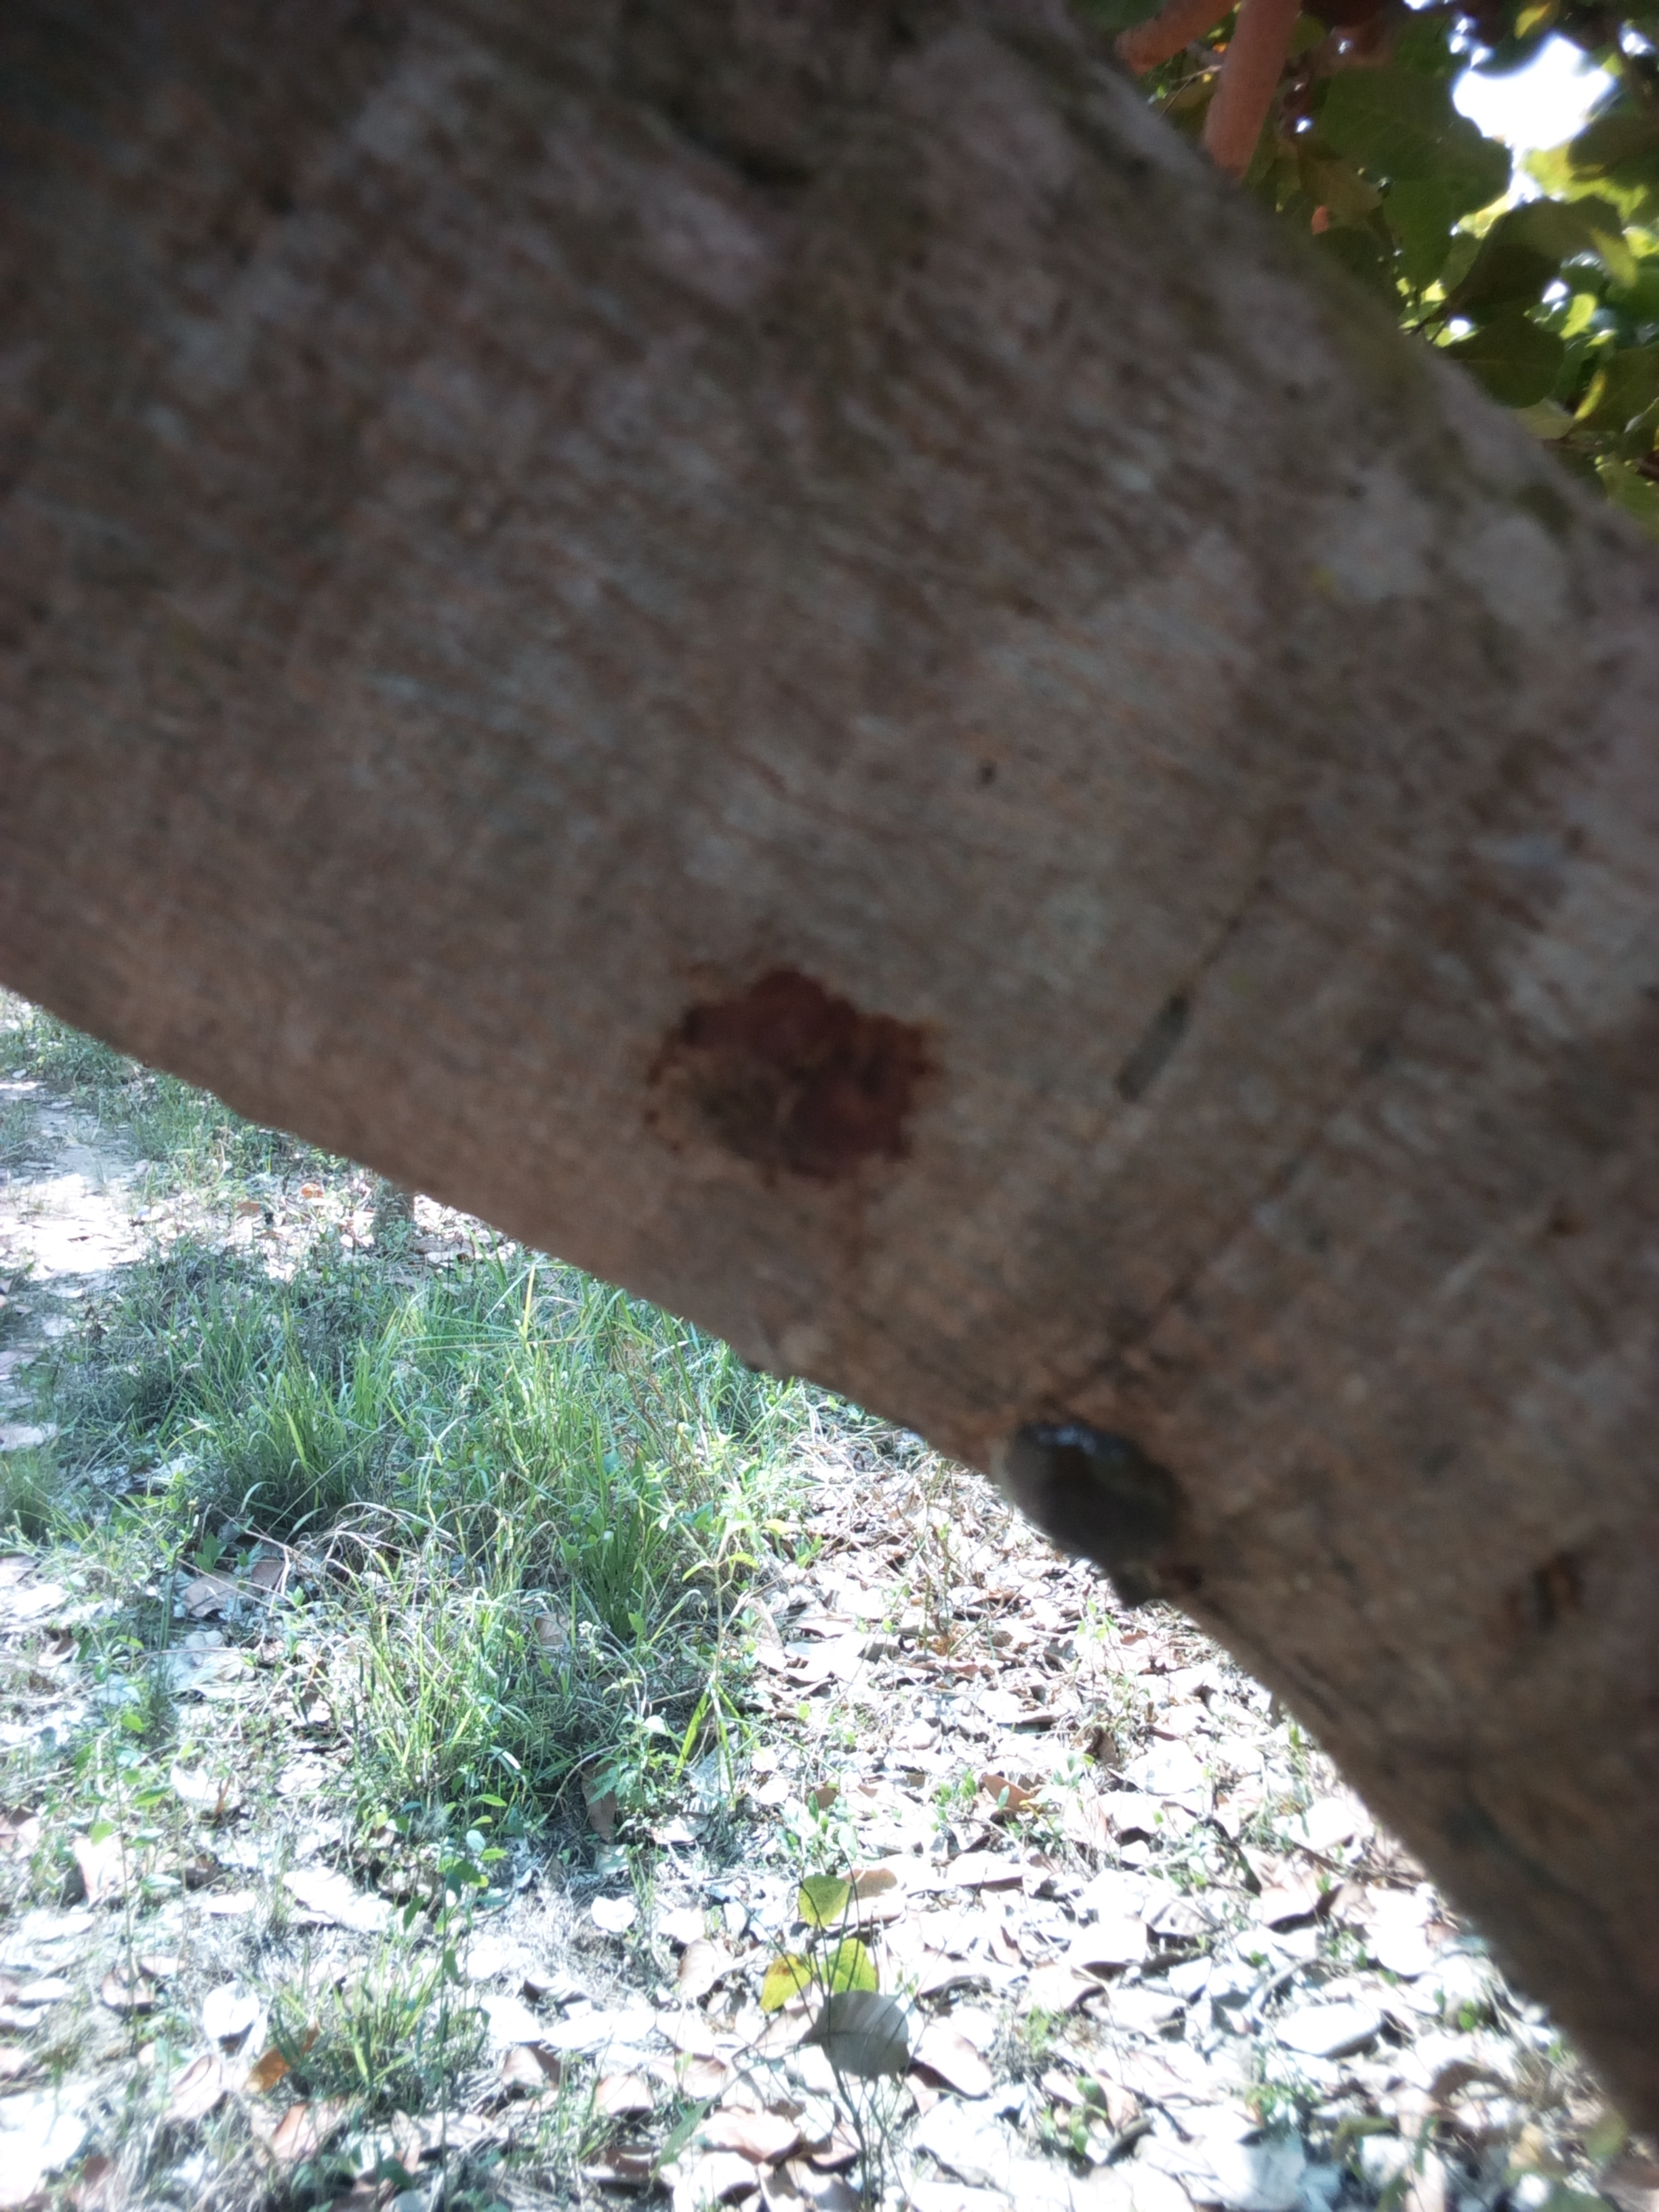Mecocorynus longiceps: (931, 1346, 1263, 1689)
